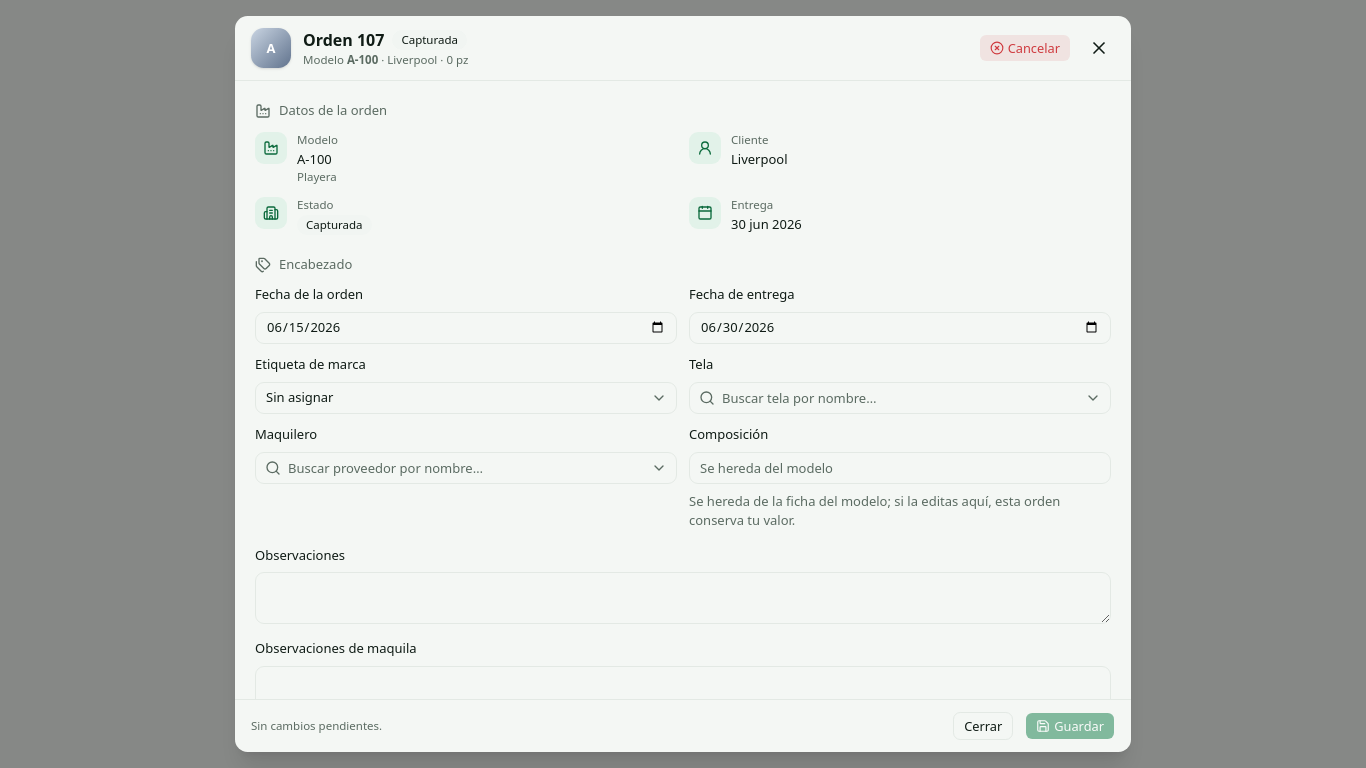
Test: <DialogoOrden> › cancelar exige un motivo: el botón de confirmar arranca deshabilitado
Click the button with test id "cancelar-orden" at (1025, 48), box [979, 34, 1071, 62]
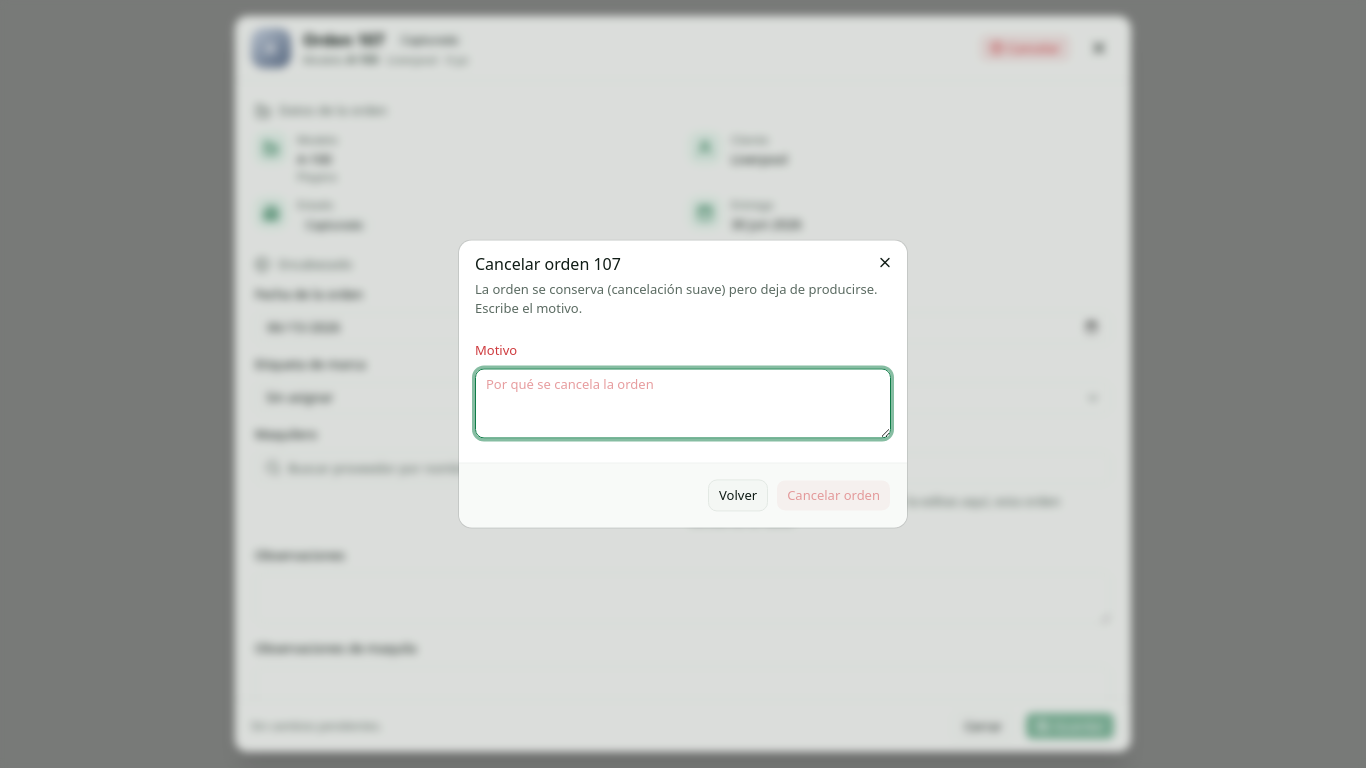
Result: the heading "Cancelar orden 107" is shown at [475, 254, 621, 276]
Result: the button with test id "confirmar-cancelar-orden" is disabled at [776, 480, 891, 512]
# Con motivo, se habilita.
Type "Falta de tela" into the text box with test id "orden-motivo-cancelar" at (683, 403), box [475, 368, 891, 438]
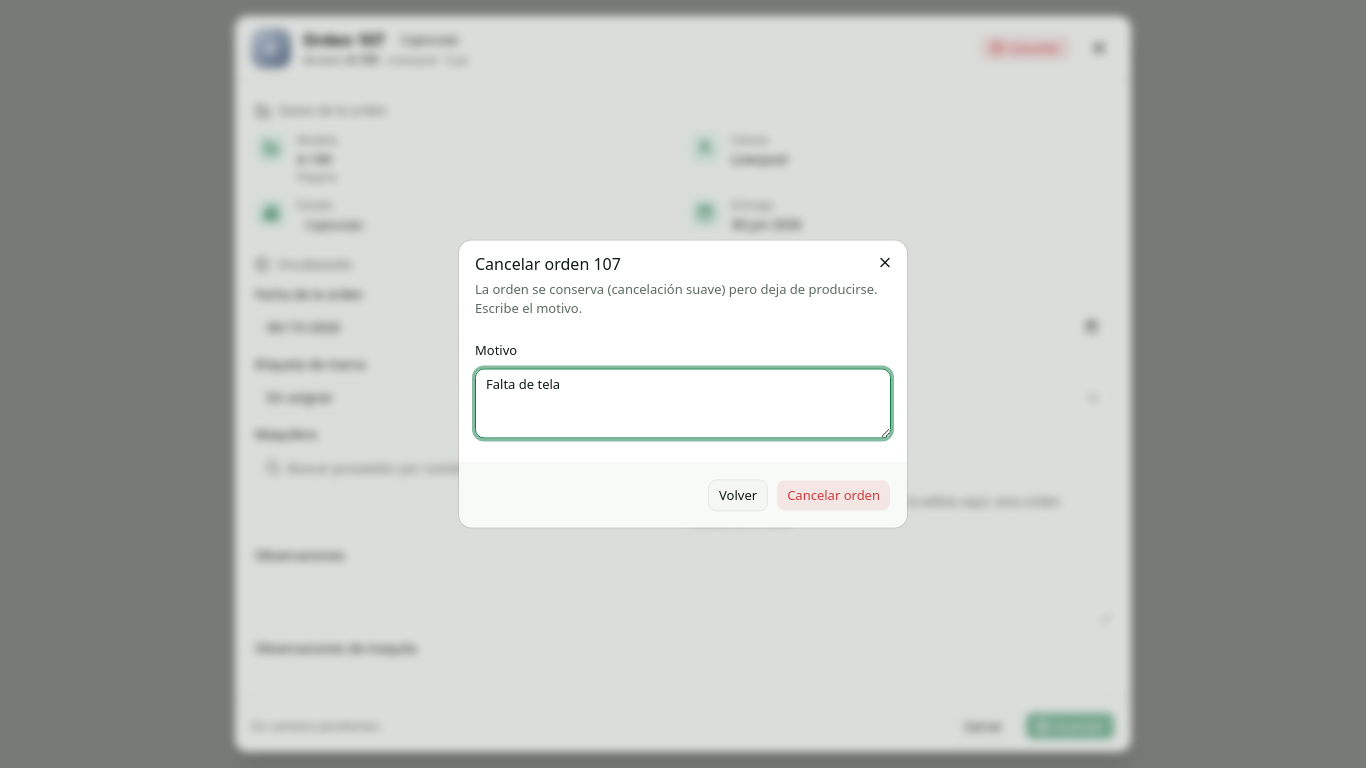
Result: the button with test id "confirmar-cancelar-orden" is enabled at [776, 480, 891, 512]
